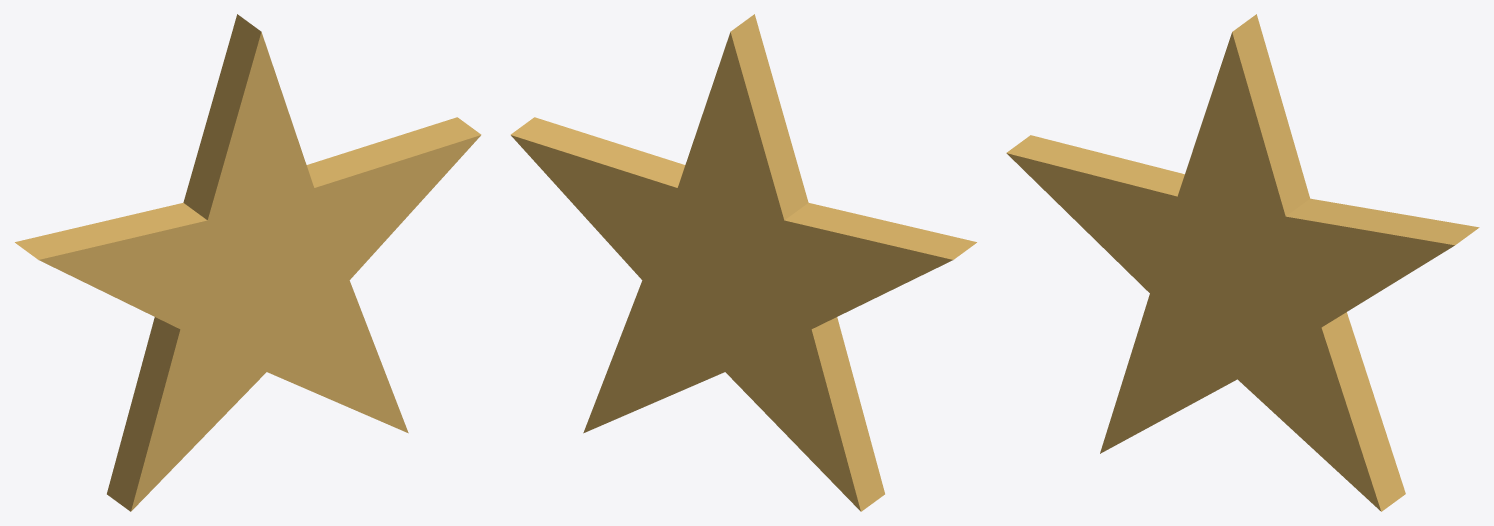
Rendered from Ster.fbx.
3 views of the same model, side by side, from view 1: azimuth 30°, elevation 25°; view 2: azimuth 150°, elevation 25°; view 3: azimuth 330°, elevation 25° (orthographic).
Parts seen in each view (by area): view 1: Ster; view 2: Ster; view 3: Ster.
Boxes of the visible parts, left/top/right/bottom form: Ster: left=15, top=14, right=481, bottom=511; Ster: left=510, top=14, right=976, bottom=511; Ster: left=1006, top=14, right=1479, bottom=511.
Size of the model in its own units: 1.46 by 1.41 by 0.1382.
